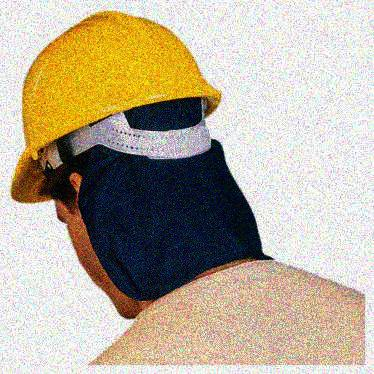helmet: (11, 5, 226, 318)
